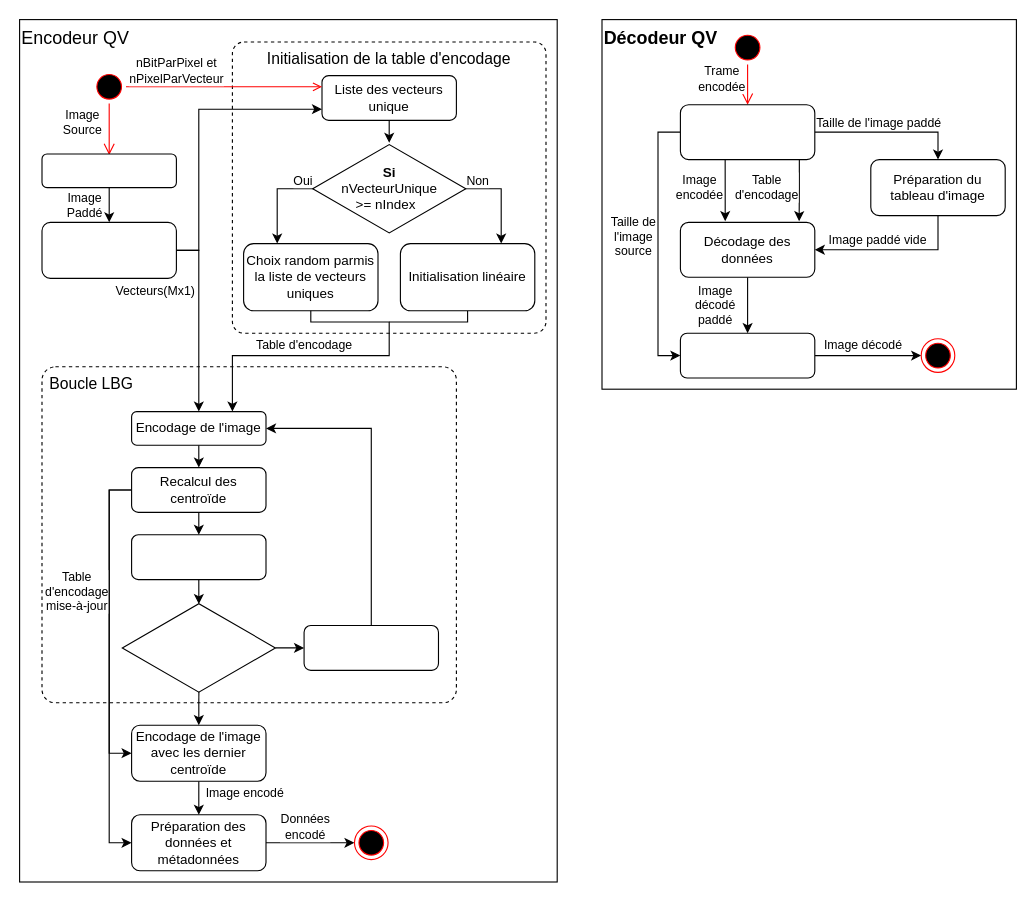
This 1036x902 diagram has some shape labels left out. Here are the shapes that lost their labels. From the top down, the centre of each, then its label:
At (747,132): "Décodage de la trame".
At (108,170): "Padding de l'image".
At (108,249): "Vectorisation de l'image".
At (747,355): "Découpage à la taille source".
At (198,557): "Calcul de convergence".
At (198,647): "Si convergence < convGoal".
At (370,647): "Gestion des index non-utilisé".
